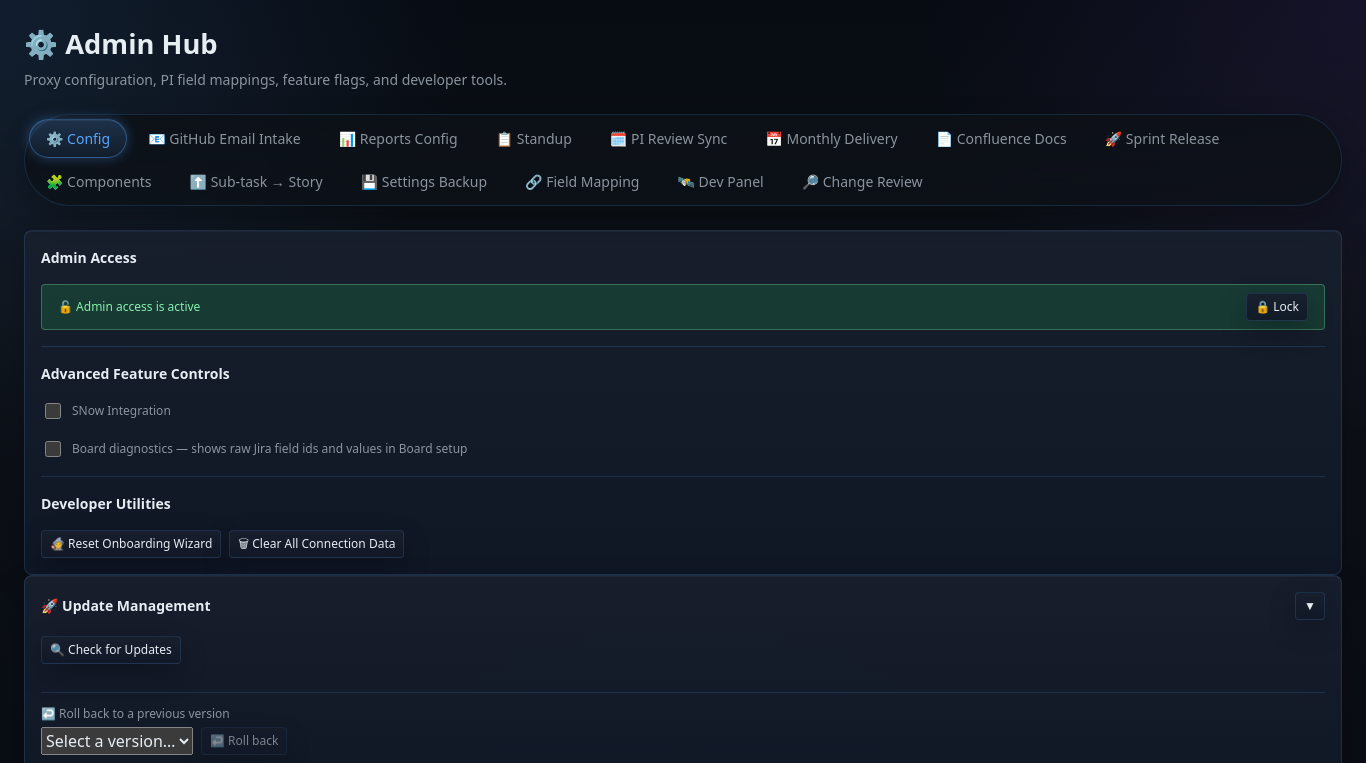
Test: Diagnostics section › renders the diagnostics result pre-block when result is available
The image size is (1366, 763).
What coordinates should you click on to do the following:
click the tab "🛰️ Dev Panel"
I would click on:
 (721, 182)
Its box is [660,162,781,201].
(page scrolled)
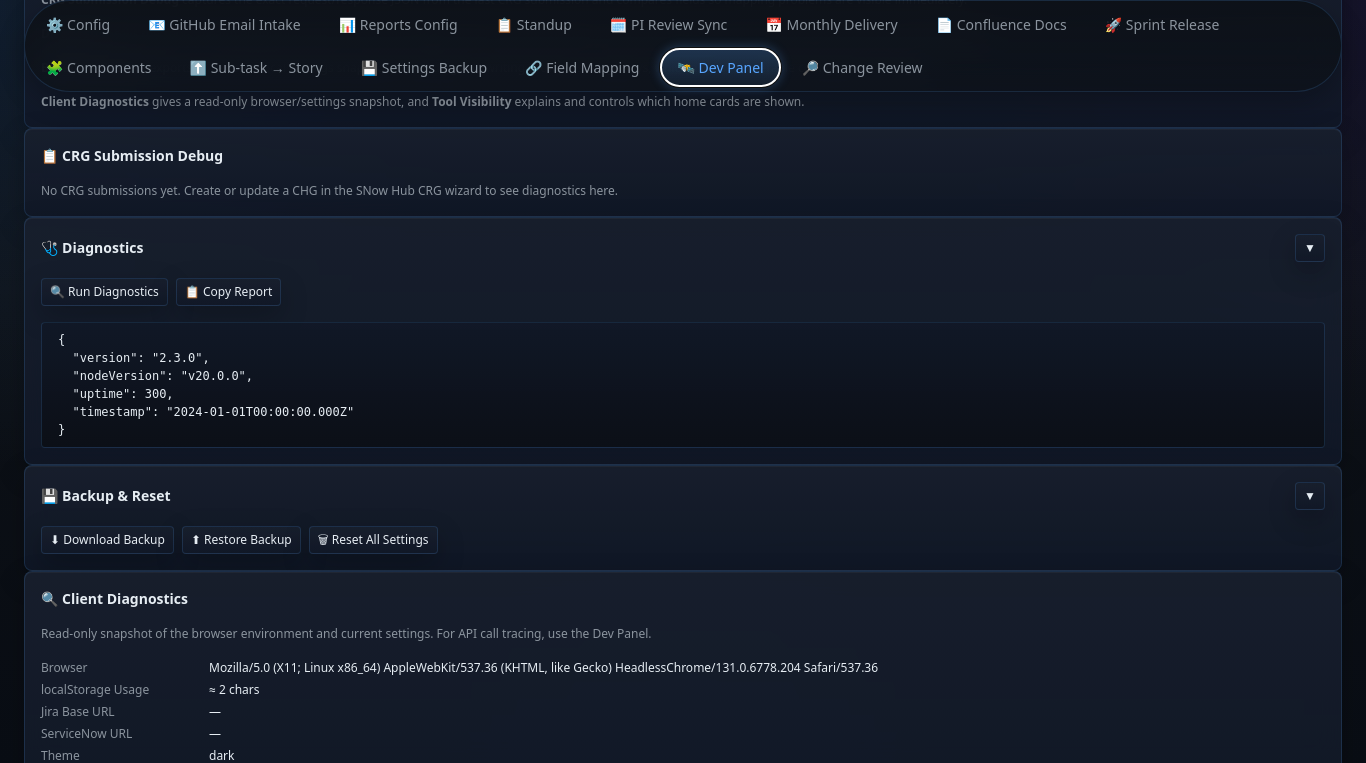
Now the text "2.3.0" is shown, box [58,333,354,437]
